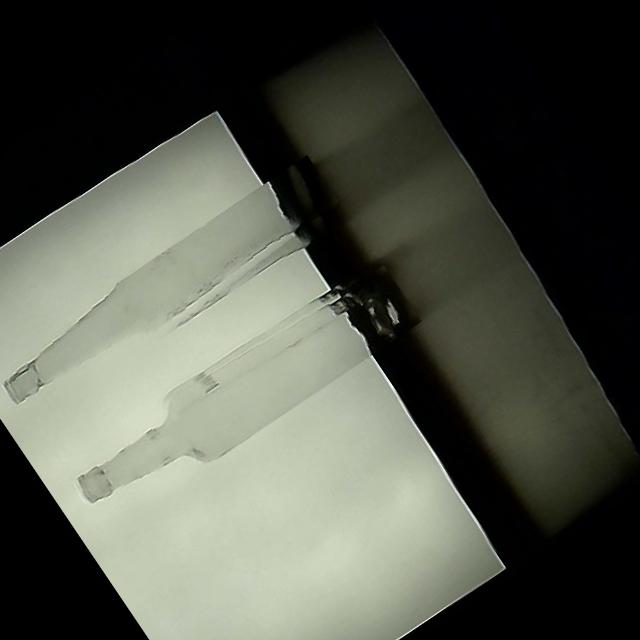Glass: (59, 252, 422, 534), (0, 154, 351, 433)
